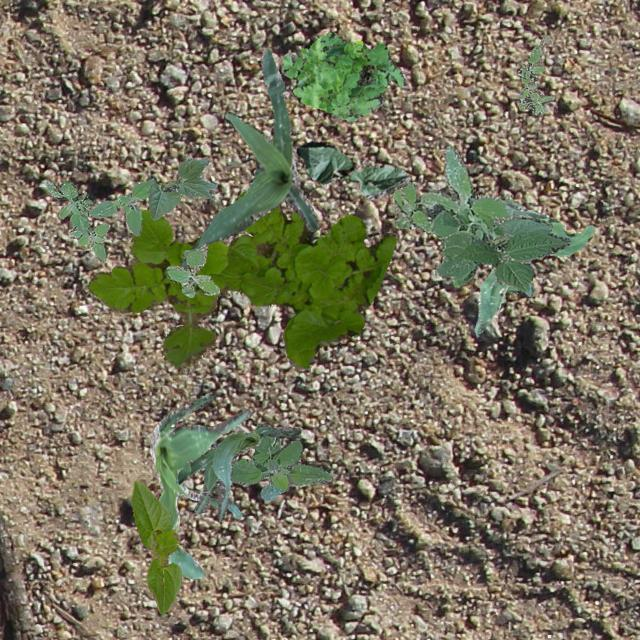crop: (178, 46, 320, 268), (150, 394, 250, 578), (474, 202, 594, 336), (174, 426, 300, 520), (434, 214, 570, 290), (130, 478, 180, 614), (296, 140, 410, 198), (146, 158, 216, 218)
weed: (87, 190, 396, 368), (391, 144, 534, 296), (280, 30, 406, 120), (44, 178, 154, 262), (230, 422, 332, 500), (516, 34, 554, 114), (164, 242, 218, 296), (487, 236, 501, 243)
